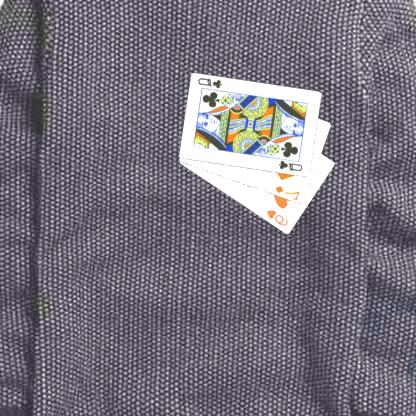6H: (266, 207, 291, 228)
7D: (274, 184, 303, 200)
QC: (278, 158, 306, 173), (197, 75, 225, 90)
